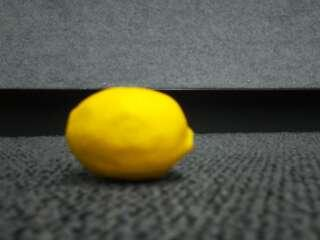lemon: (67, 86, 196, 182)
